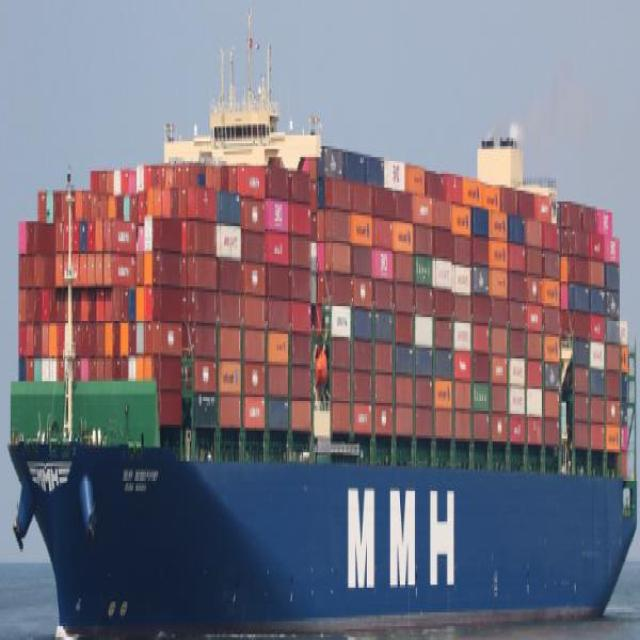Container Ship: (5, 0, 638, 640)
